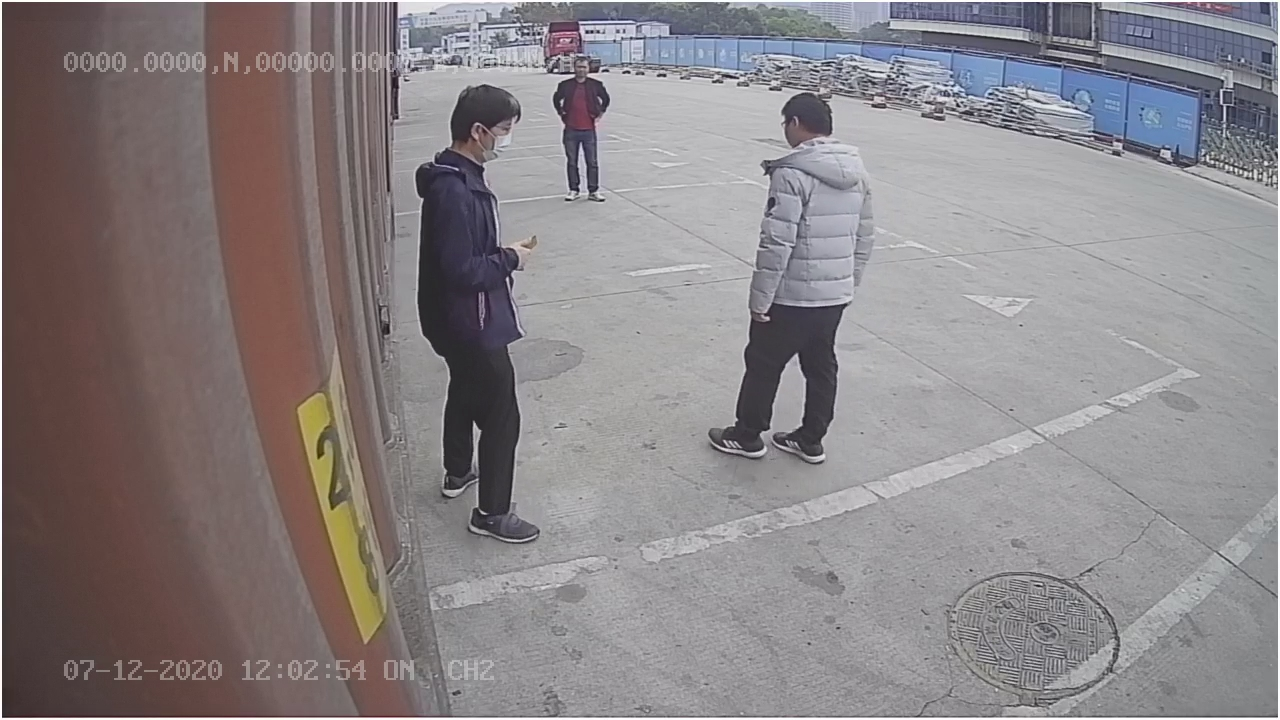person: (703, 90, 880, 465)
